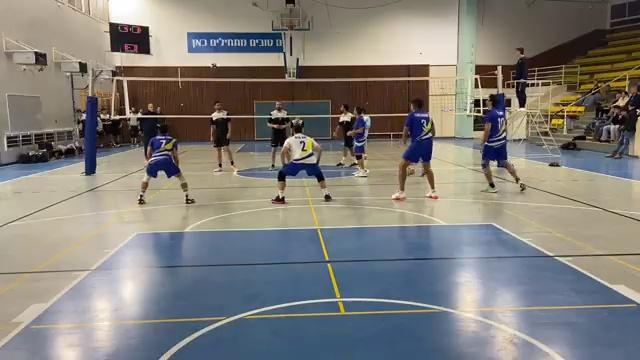ball: (408, 166, 415, 177)
